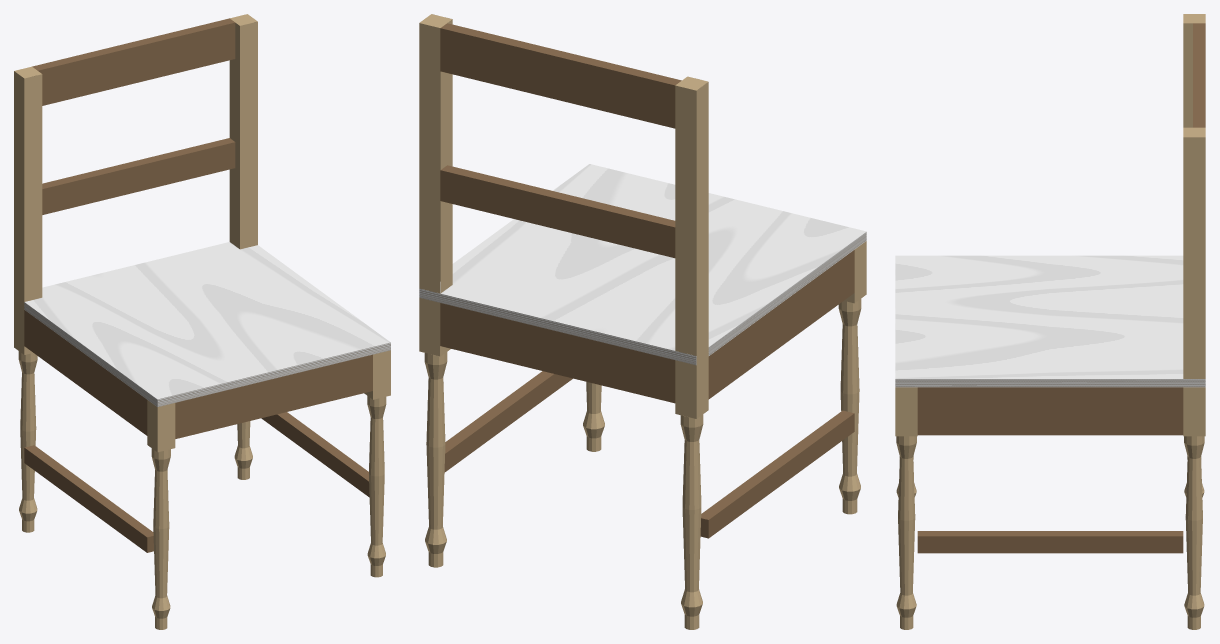
Rendered from BIB-WSR-std.glb.
The picture shows the model from 3 angles, left to right: view 1: azimuth 30°, elevation 25°; view 2: azimuth 150°, elevation 25°; view 3: azimuth 270°, elevation 25°; orthographic projection. The views are drawn at different scales.
Parts seen in each view (by area): view 1: seat:sheet:eyJtIjoicGx5Iiwic2lkZSI6ImZhY2UiLCJzZWVkIjo2LCJ2Z, leg-bl:pbr, back-top:pbr, rail-f:pbr, leg-br:pbr, back-mid:pbr, rail-l:pbr, leg-fl:pbr, leg-fr:pbr, stretcher-l:pbr, stretcher-r:pbr, seat:sheet:eyJtIjoicGx5Iiwic2lkZSI6ImVkZ2UtZW5kIiwic2VlZCI6N (+1 smaller); view 2: seat:sheet:eyJtIjoicGx5Iiwic2lkZSI6ImZhY2UiLCJzZWVkIjo2LCJ2Z, leg-bl:pbr, leg-br:pbr, back-top:pbr, rail-b:pbr, back-mid:pbr, rail-l:pbr, stretcher-l:pbr, leg-fl:pbr, stretcher-r:pbr, seat:sheet:eyJtIjoicGx5Iiwic2lkZSI6ImVkZ2UtZW5kIiwic2VlZCI6N, seat:sheet:eyJtIjoicGx5Iiwic2lkZSI6ImVkZ2UtbG9uZyIsInNlZWQiO (+1 smaller); view 3: seat:sheet:eyJtIjoicGx5Iiwic2lkZSI6ImZhY2UiLCJzZWVkIjo2LCJ2Z, rail-r:pbr, leg-br:pbr, stretcher-r:pbr, leg-fr:pbr, seat:sheet:eyJtIjoicGx5Iiwic2lkZSI6ImVkZ2UtbG9uZyIsInNlZWQiO, stretcher-l:pbr, back-top:pbr, leg-bl:pbr.
Part boxes in pixels (<box>): seat:sheet:eyJtIjoicGx5Iiwic2lkZSI6ImZhY2UiLCJzZWVkIjo2LCJ2Z: <box>25,242,390,399</box>; leg-bl:pbr: <box>14,66,42,532</box>; back-top:pbr: <box>32,18,235,105</box>; rail-f:pbr: <box>175,354,372,438</box>; leg-br:pbr: <box>229,14,257,479</box>; back-mid:pbr: <box>42,138,235,214</box>; rail-l:pbr: <box>24,310,147,435</box>; leg-fl:pbr: <box>147,400,175,629</box>; leg-fr:pbr: <box>364,350,390,577</box>; stretcher-l:pbr: <box>24,445,153,552</box>; stretcher-r:pbr: <box>261,412,369,497</box>; seat:sheet:eyJtIjoicGx5Iiwic2lkZSI6ImVkZ2UtZW5kIiwic2VlZCI6N: <box>157,342,390,406</box>; seat:sheet:eyJtIjoicGx5Iiwic2lkZSI6ImZhY2UiLCJzZWVkIjo2LCJ2Z: <box>440,164,866,350</box>; leg-bl:pbr: <box>675,76,708,629</box>; leg-br:pbr: <box>419,14,452,567</box>; back-top:pbr: <box>440,23,681,128</box>; rail-b:pbr: <box>440,303,675,403</box>; back-mid:pbr: <box>440,165,675,258</box>; rail-l:pbr: <box>708,250,854,399</box>; stretcher-l:pbr: <box>700,410,854,538</box>; leg-fl:pbr: <box>838,241,866,514</box>; stretcher-r:pbr: <box>444,371,572,472</box>; seat:sheet:eyJtIjoicGx5Iiwic2lkZSI6ImVkZ2UtZW5kIiwic2VlZCI6N: <box>419,288,696,365</box>; seat:sheet:eyJtIjoicGx5Iiwic2lkZSI6ImVkZ2UtbG9uZyIsInNlZWQiO: <box>696,232,866,364</box>; seat:sheet:eyJtIjoicGx5Iiwic2lkZSI6ImZhY2UiLCJzZWVkIjo2LCJ2Z: <box>895,255,1183,378</box>; rail-r:pbr: <box>917,387,1183,426</box>; leg-br:pbr: <box>1183,127,1205,629</box>; stretcher-r:pbr: <box>917,531,1183,553</box>; leg-fr:pbr: <box>895,387,917,629</box>; seat:sheet:eyJtIjoicGx5Iiwic2lkZSI6ImVkZ2UtbG9uZyIsInNlZWQiO: <box>895,379,1205,387</box>; stretcher-l:pbr: <box>917,426,1183,435</box>; back-top:pbr: <box>1193,23,1205,127</box>; leg-bl:pbr: <box>1183,14,1205,497</box>.
Size of the model in its own units: 0.4701 by 0.88 by 0.5.
15 materials, 3 textured.
